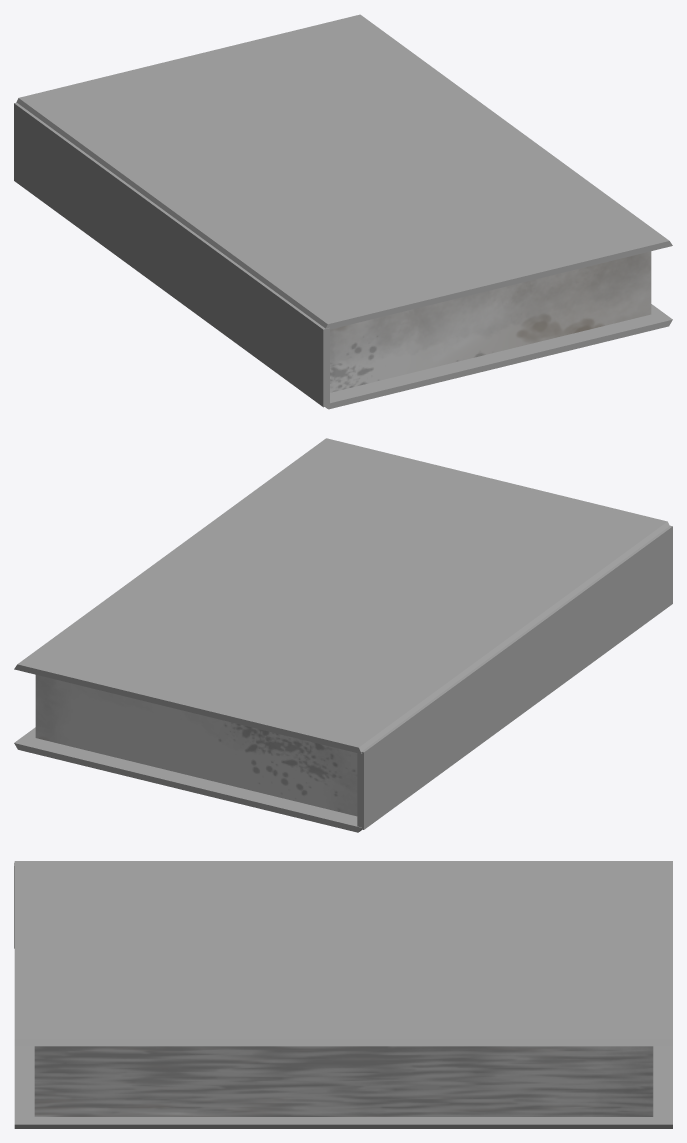
Rendered from book - Copy.fbx.
3 views of the same model, one above another, from view 1: azimuth 30°, elevation 25°; view 2: azimuth 150°, elevation 25°; view 3: azimuth 270°, elevation 25° (orthographic). The views are drawn at different scales.
Visible parts, largest first — view 1: frontcover, spine, inside, backcover; view 2: frontcover, spine, inside, backcover; view 3: frontcover, inside, backcover.
Boxes of the visible parts, x1=… form: frontcover: x1=16, y1=14, x2=672, y2=329; spine: x1=14, y1=102, x2=329, y2=407; inside: x1=330, y1=251, x2=651, y2=392; backcover: x1=325, y1=304, x2=672, y2=409; frontcover: x1=14, y1=438, x2=669, y2=754; spine: x1=357, y1=525, x2=672, y2=829; inside: x1=35, y1=675, x2=357, y2=816; backcover: x1=14, y1=727, x2=361, y2=832; frontcover: x1=14, y1=861, x2=672, y2=1046; inside: x1=34, y1=1046, x2=653, y2=1116; backcover: x1=14, y1=1046, x2=672, y2=1128.
Size of the model in its own units: 4.41 by 1.03 by 6.76.
Materials: 2 (1 with a texture image).
